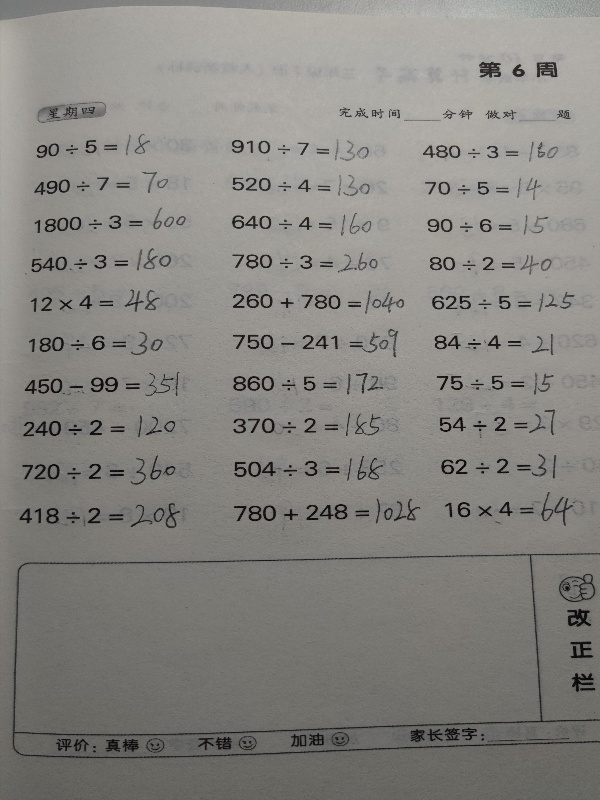equation: (233, 497, 428, 528), (232, 327, 408, 360), (229, 288, 408, 318), (441, 492, 582, 529), (21, 502, 189, 532), (20, 456, 186, 486), (225, 410, 393, 439), (31, 208, 189, 238), (228, 169, 378, 200), (27, 245, 181, 275), (228, 129, 377, 160), (227, 209, 375, 240), (230, 369, 392, 397), (29, 166, 172, 196), (25, 285, 168, 315), (23, 416, 180, 443), (232, 457, 393, 483), (431, 288, 580, 316), (425, 247, 559, 278), (228, 249, 381, 276), (437, 366, 562, 399), (433, 410, 570, 440), (430, 328, 561, 358), (420, 139, 563, 166), (22, 373, 189, 396), (437, 452, 565, 482), (422, 174, 546, 204), (28, 331, 171, 357), (32, 131, 153, 160), (424, 212, 552, 239)
